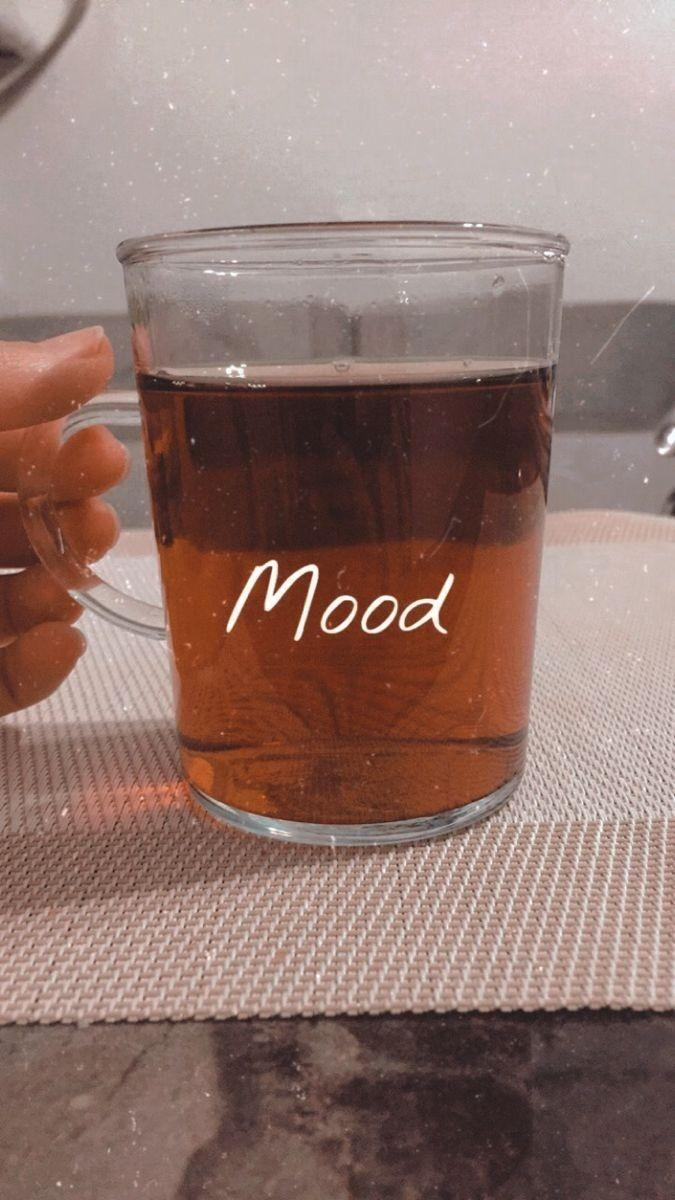glass-mug: (12, 211, 581, 855)
